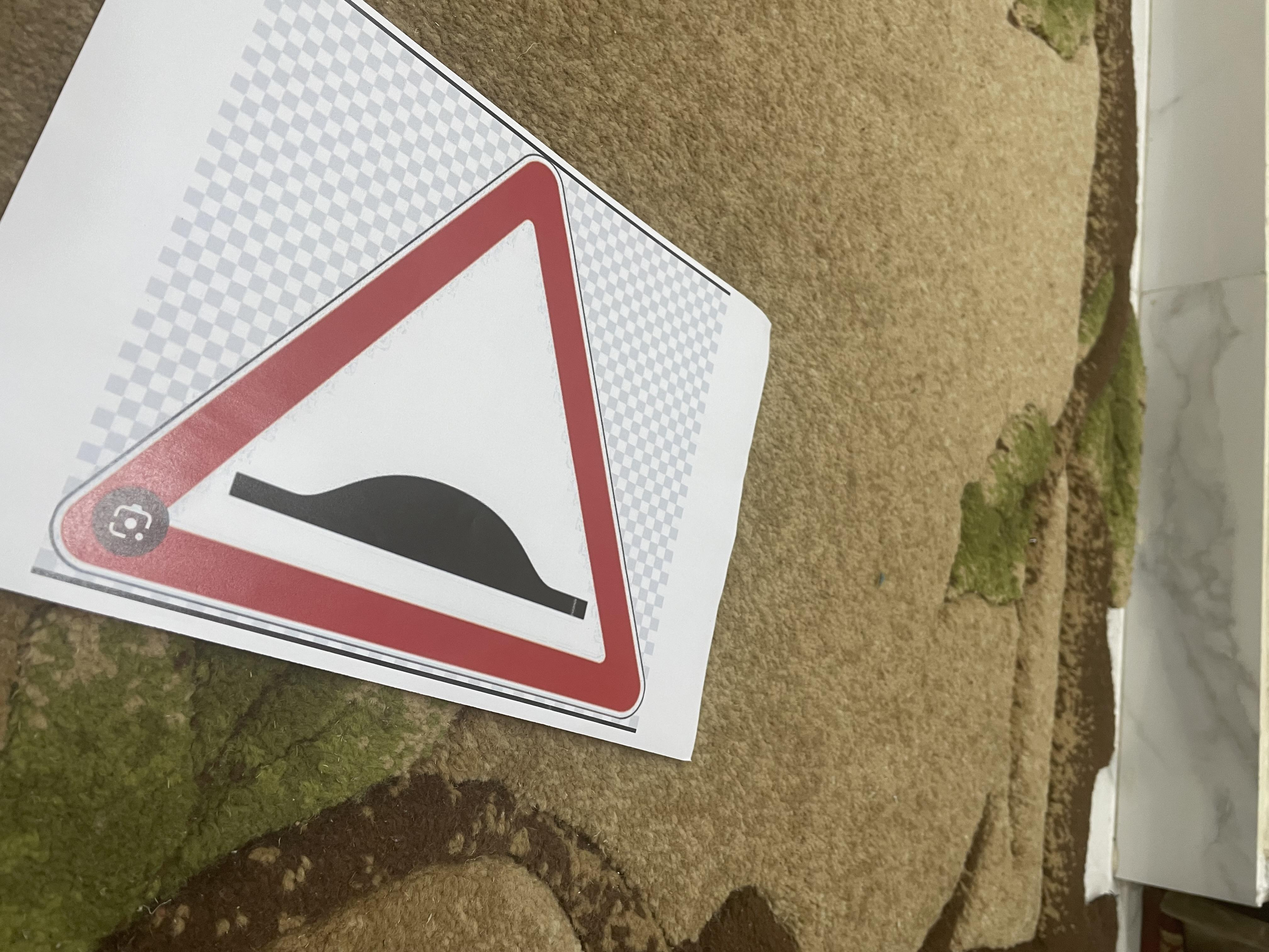Hump: (204, 466, 1000, 923)
